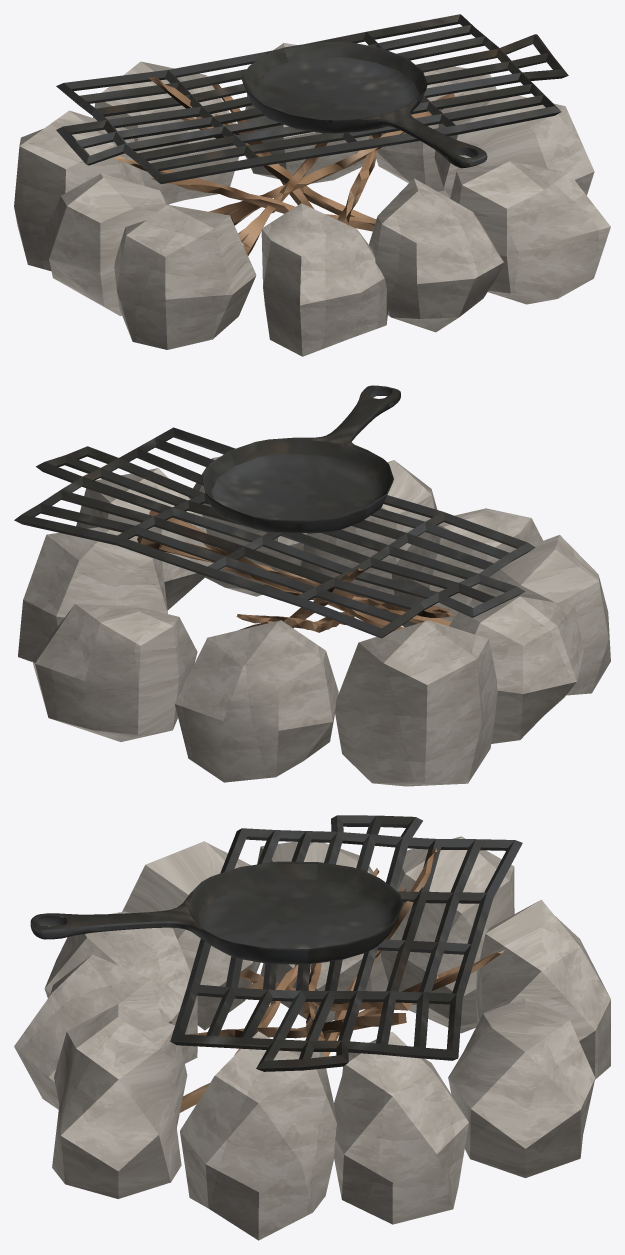
Rendered from LP_FirePit.glb.
The picture shows the model from 3 angles, top to bottom: view 1: azimuth 30°, elevation 25°; view 2: azimuth 150°, elevation 25°; view 3: azimuth 270°, elevation 25°; orthographic projection. The views are drawn at different scales.
Parts seen in each view (by area): view 1: Plane; view 2: Plane; view 3: Plane.
Part boxes in pixels (box(x1,y1,x2,y2)): Plane: box(14, 14, 610, 356); Plane: box(14, 385, 610, 786); Plane: box(14, 815, 610, 1240).
Size of the model in its own units: 1.58 by 0.5889 by 1.4.
3 materials, 3 textured.
